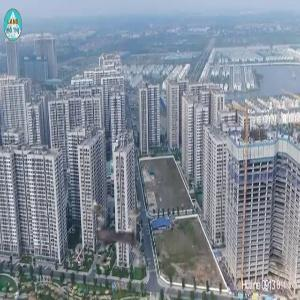drone: (64, 189, 162, 287)
